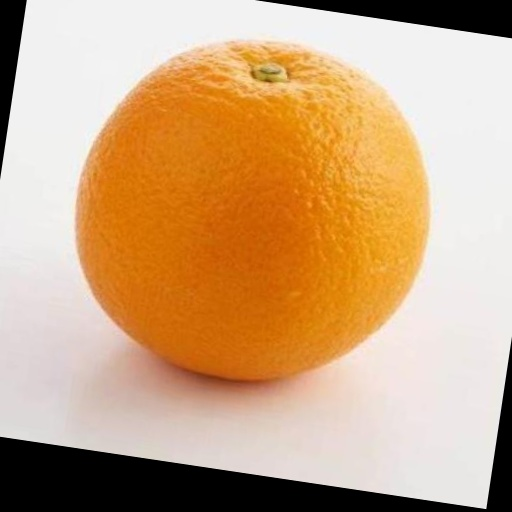fruit: (76, 41, 428, 380)
